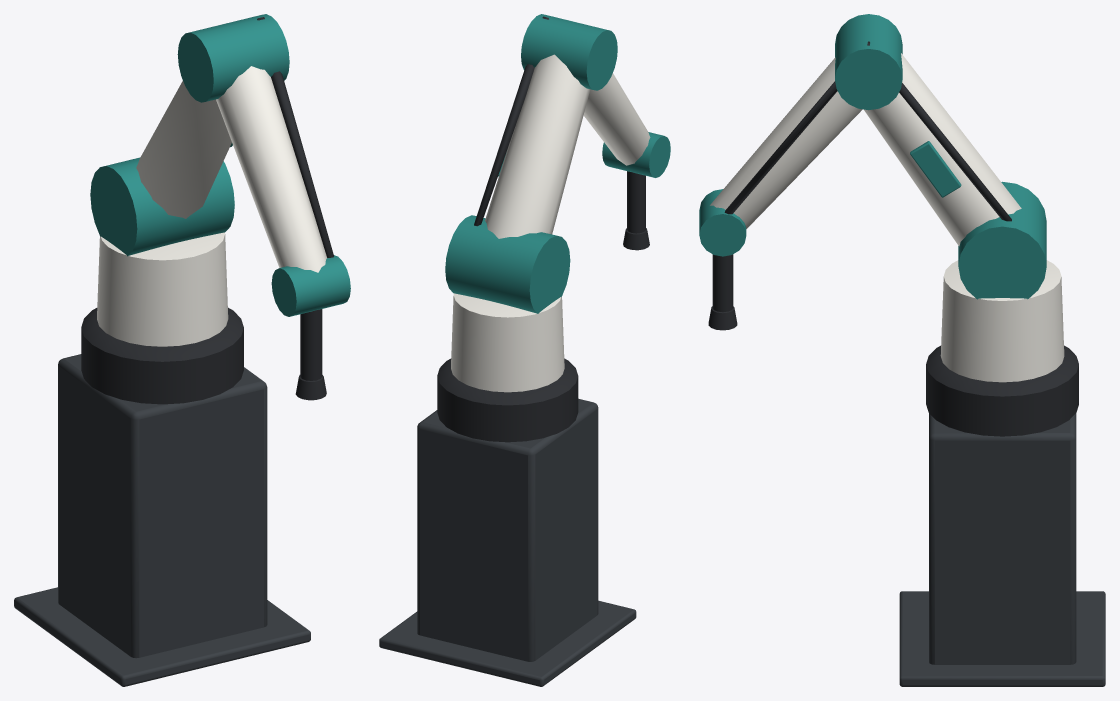
Rendered from robot_0.fbx.
The picture shows the model from 3 angles, left to right: view 1: azimuth 30°, elevation 25°; view 2: azimuth 150°, elevation 25°; view 3: azimuth 270°, elevation 25°; orthographic projection. The views are drawn at different scales.
Visible parts, largest first — view 1: robot_0; view 2: robot_0; view 3: robot_0.
Boxes of the visible parts, left/top/right/bottom form: robot_0: left=14, top=14, right=350, bottom=686; robot_0: left=379, top=14, right=670, bottom=686; robot_0: left=699, top=14, right=1105, bottom=686.
Size of the model in its own units: 0.7 by 2.3 by 1.38.
